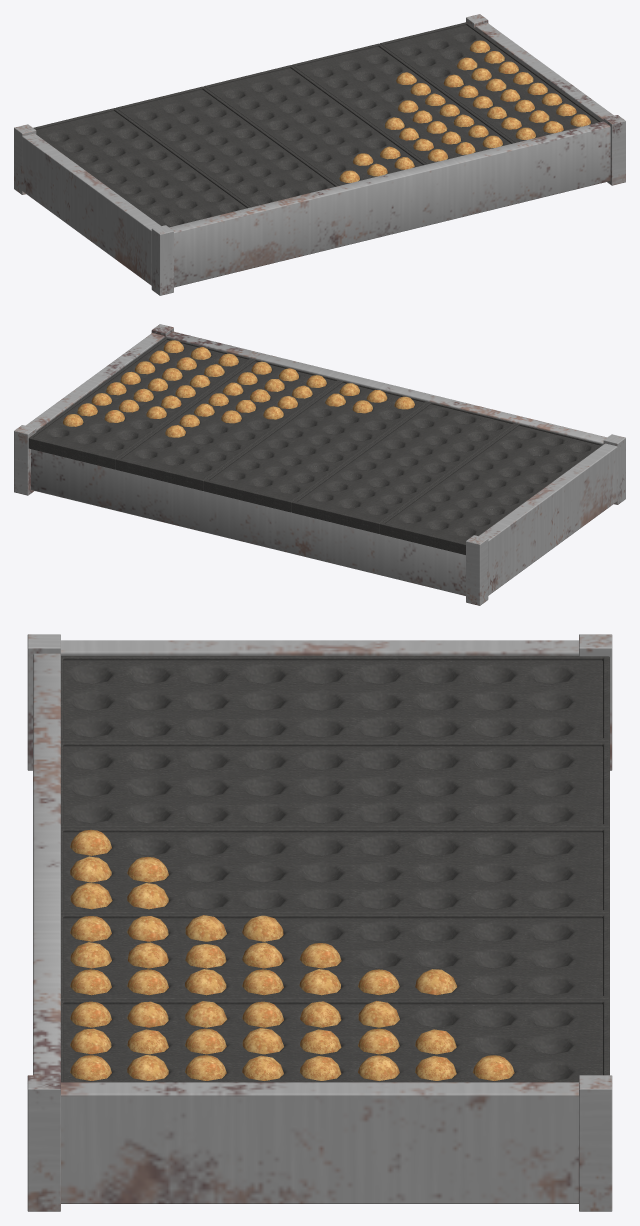
Rendered from StallProp_A.fbx.
3 views of the same model, one above another, from view 1: azimuth 30°, elevation 25°; view 2: azimuth 150°, elevation 25°; view 3: azimuth 270°, elevation 25° (orthographic). The views are drawn at different scales.
Parts seen in each view (by area): view 1: StallProp_A; view 2: StallProp_A; view 3: StallProp_A.
Boxes of the visible parts, box(x1,y1,x2,y2) form: StallProp_A: box(14, 14, 625, 295); StallProp_A: box(14, 324, 625, 605); StallProp_A: box(27, 634, 612, 1211).
Bounding box in the file's own units: 1.46 × 0.1894 × 0.7903.
